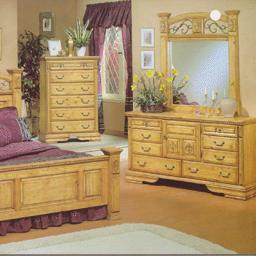Armario: (44, 58, 101, 141)
Cama: (2, 83, 123, 228)
